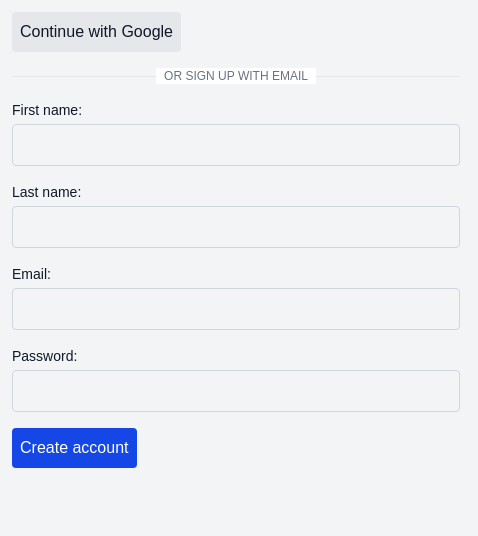
it: SignUpForm › validation › shows password length error when password is too short
The width and height of the screenshot is (478, 536).
In the field labelled "First name:": (236, 145) 12,124 -> 460,166, type "Jane"
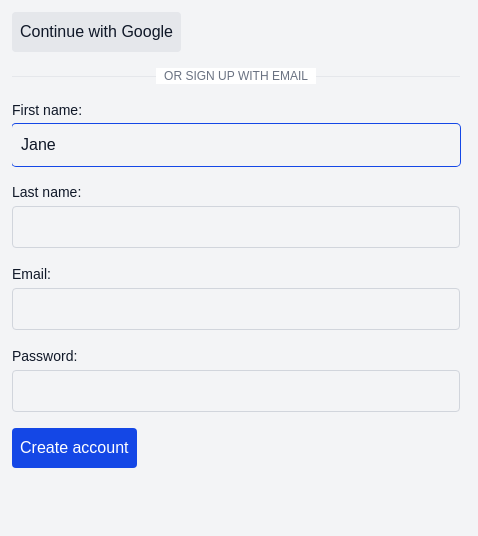
In the field labelled "Last name:": (236, 227) 12,206 -> 460,248, type "Doe"
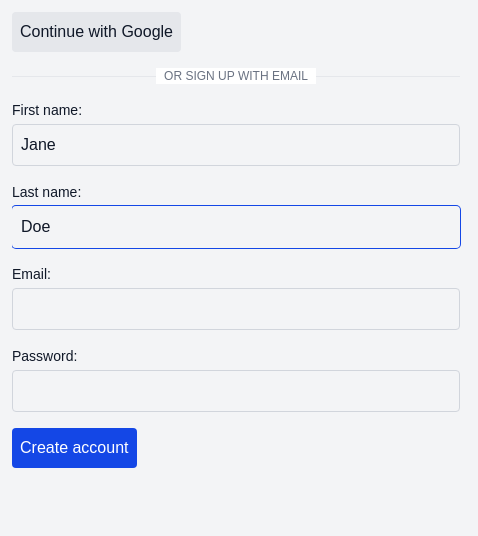
In the field labelled "Email:": (236, 309) 12,288 -> 460,330, type "user@example.com"
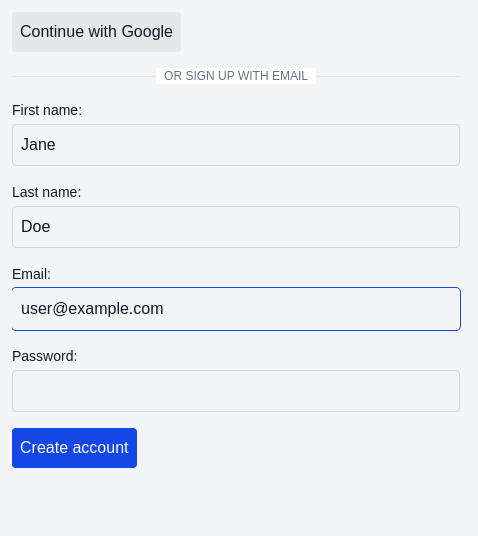
In the password field labelled "Password:": (236, 391) 12,370 -> 460,412, type "short"
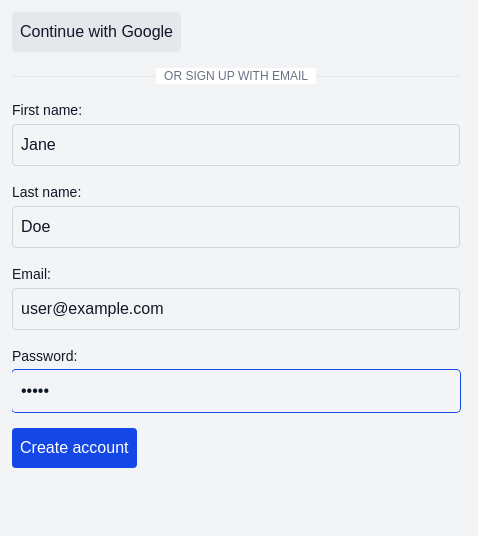
Click the button "Create account": (74, 448) 12,428 -> 136,468
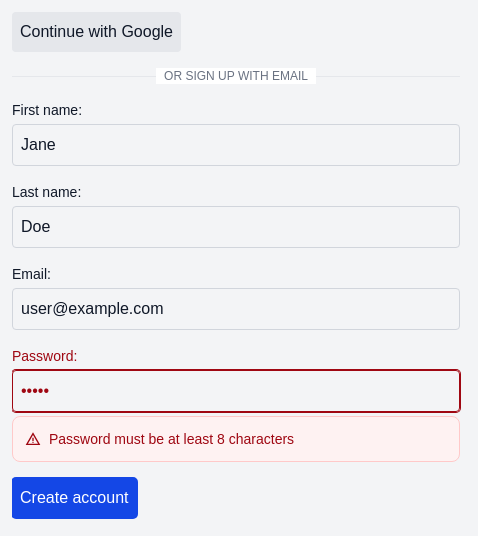
Check: the text "Password must be at least 8 characters" is shown, box 25,431 -> 294,447
